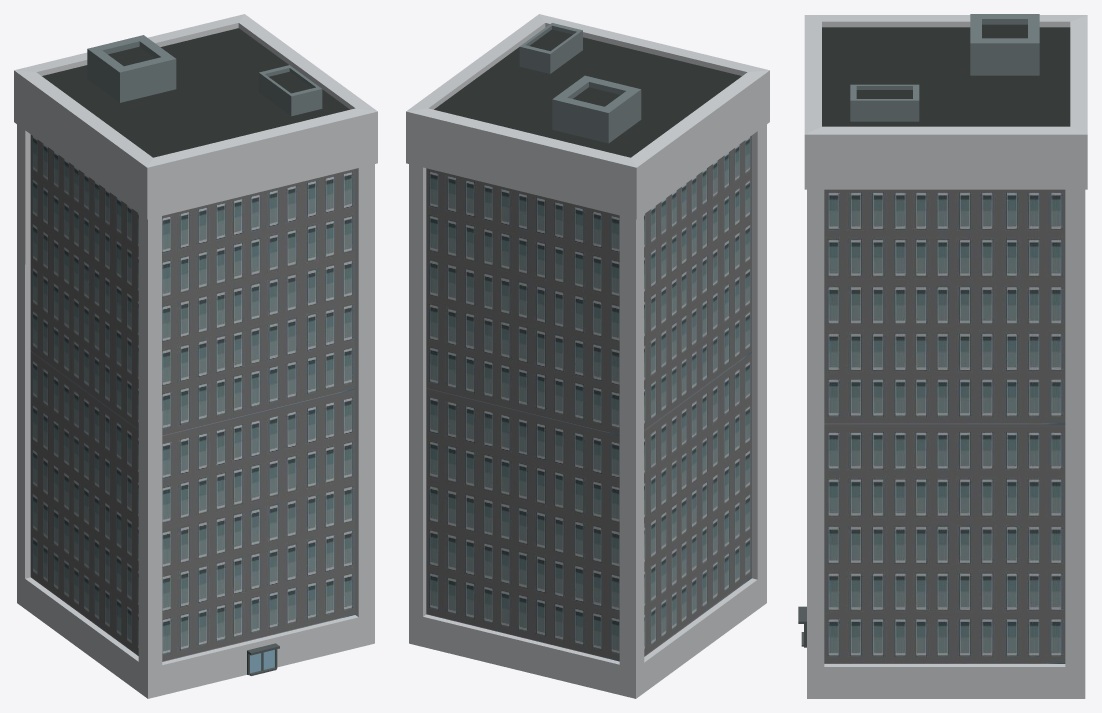
The model's file is High Tower Medium Grey.glb.
The picture shows the model from 3 angles, left to right: view 1: azimuth 30°, elevation 25°; view 2: azimuth 150°, elevation 25°; view 3: azimuth 270°, elevation 25°; orthographic projection. The views are drawn at different scales.
Parts seen in each view (by area): view 1: High Tower Medium Grey; view 2: High Tower Medium Grey; view 3: High Tower Medium Grey.
Part boxes in pixels (x1,y1,x2,y2): High Tower Medium Grey: (14,14,377,698); High Tower Medium Grey: (406,14,769,698); High Tower Medium Grey: (798,14,1087,698).
Size of the model in its own units: 0.6846 by 1.58 by 0.6999.
Materials: 1 (1 with a texture image).
